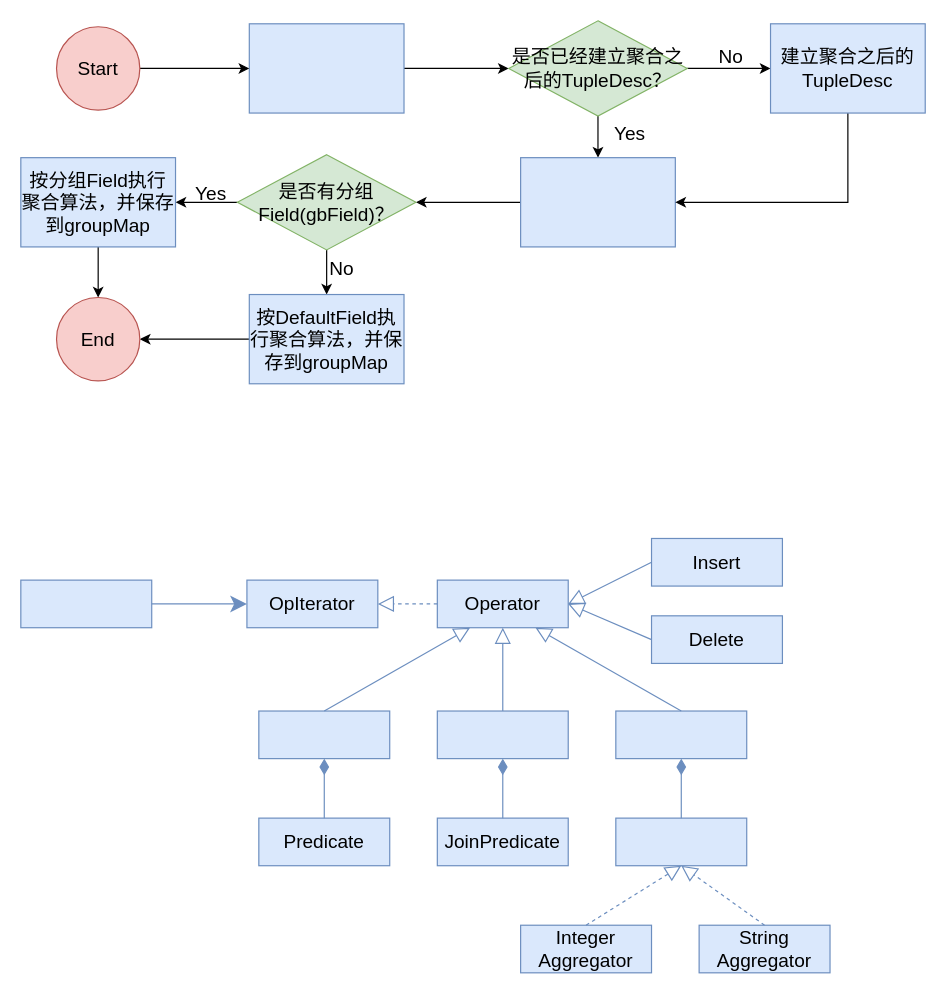
This 946x994 diagram has some shape labels left out. The box of each missing label's shape, as (x1, y1, x2, y2) in pixels:
Aggregate: (615, 710, 747, 759)
Aggregator: (615, 817, 747, 866)
Filter: (258, 710, 390, 759)
Join: (436, 710, 568, 759)
Parser: (20, 579, 152, 628)
获取Tuple的聚合Field(aggField): (519, 156, 675, 247)
读入一个Tuple: (248, 23, 404, 113)
